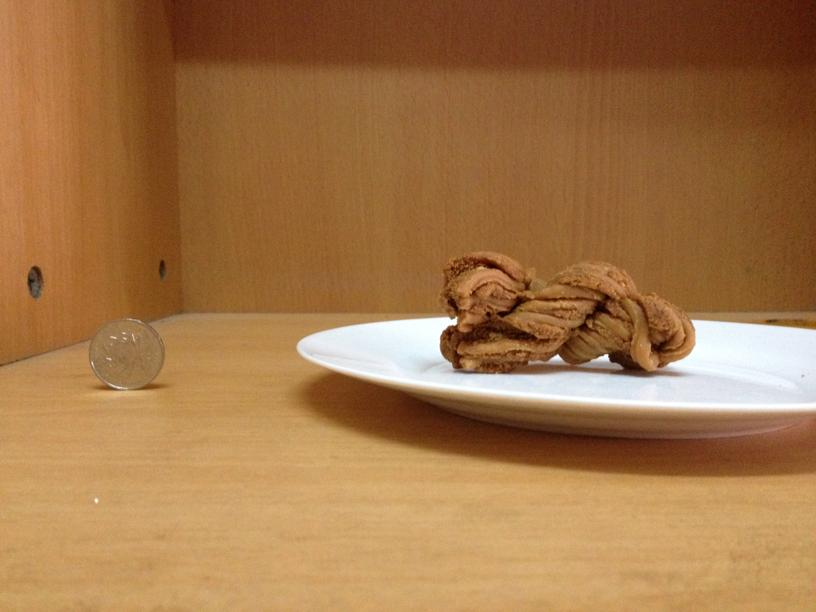coin: (86, 315, 165, 390)
fired_dough_twist: (436, 250, 695, 376)
